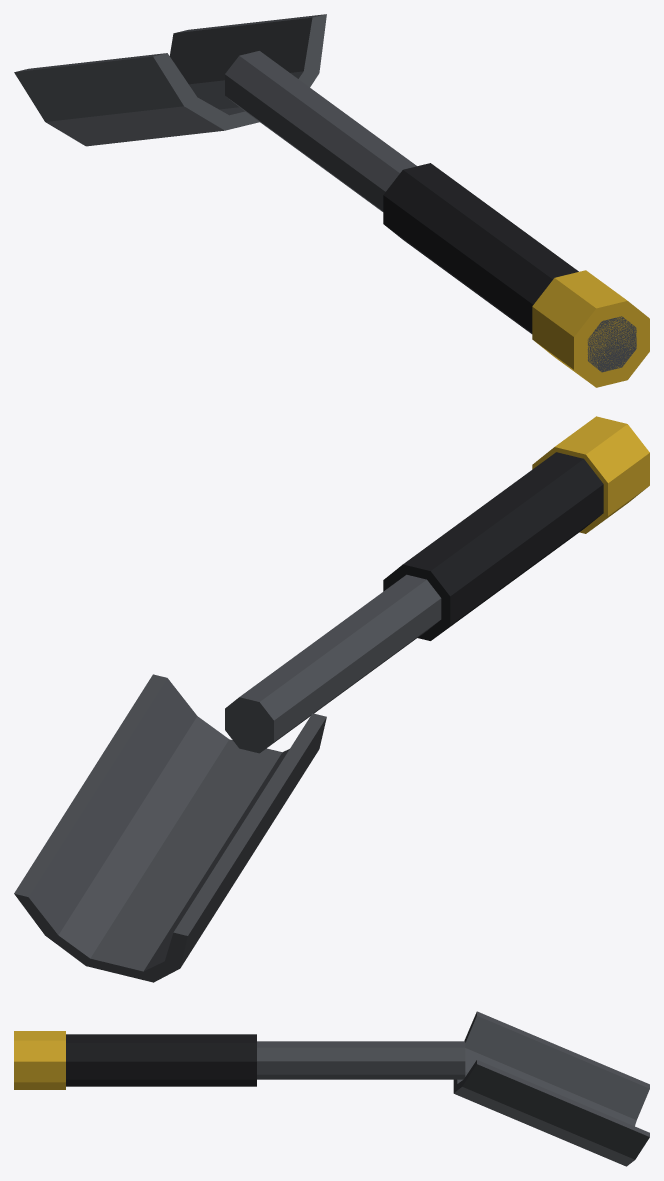
The model's file is sample_scoop.glb.
3 renders of one model, top to bottom at view 1: azimuth 30°, elevation 25°; view 2: azimuth 150°, elevation 25°; view 3: azimuth 270°, elevation 25°, orthographic. The views are drawn at different scales.
Parts seen in each view (by area): view 1: sample_scoop; view 2: sample_scoop; view 3: sample_scoop.
Part boxes in pixels (x1=…): sample_scoop: x1=14, y1=14, x2=649, y2=387; sample_scoop: x1=14, y1=416, x2=649, y2=982; sample_scoop: x1=14, y1=1011, x2=649, y2=1166.
Size of what is drawn, in the model's own units: 0.072 by 0.0767 by 0.3665.
